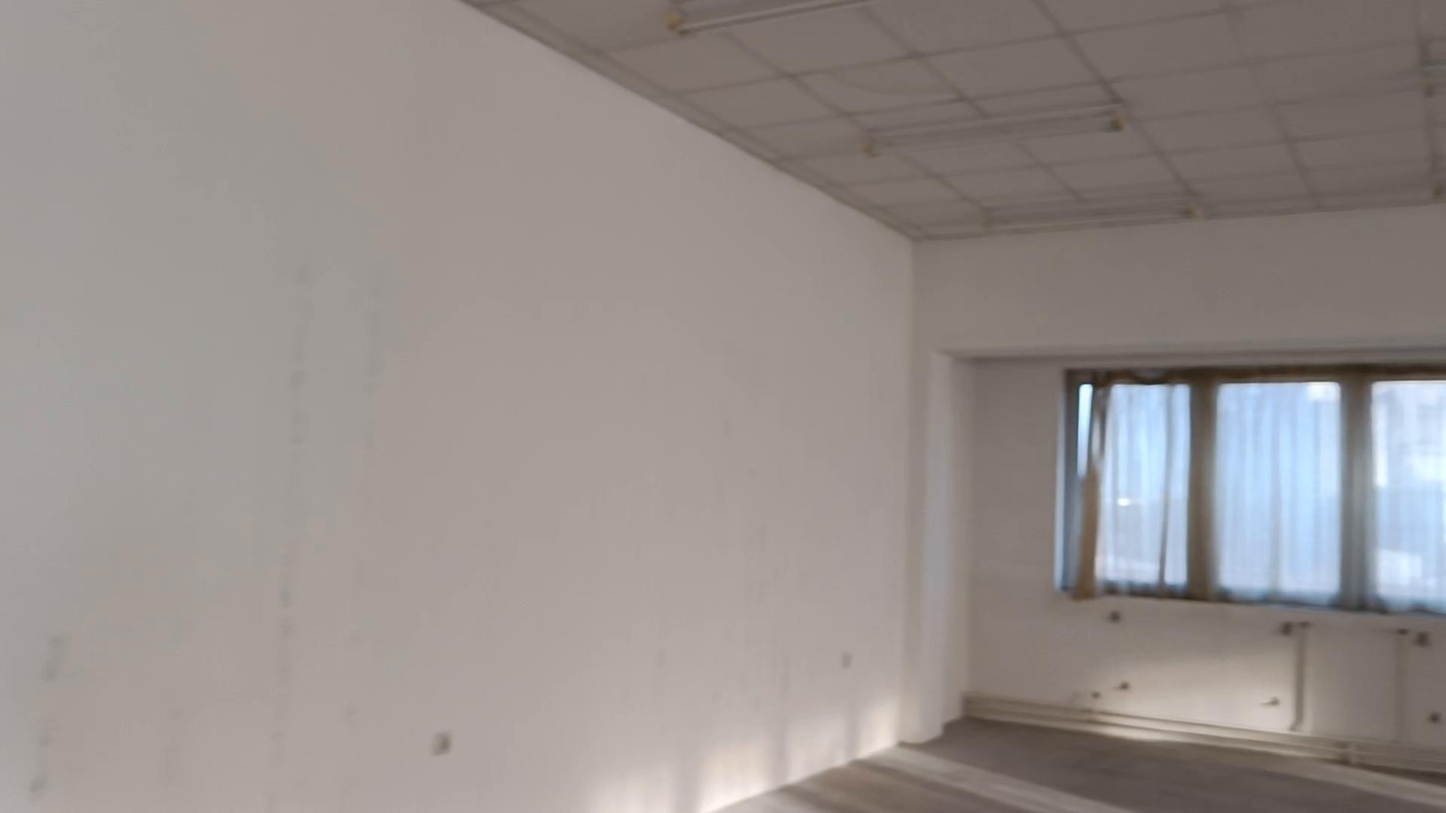ceiling: (467, 0, 1445, 238)
floor: (721, 717, 1445, 812)
wall: (0, 0, 1445, 812), (0, 2, 910, 812), (943, 359, 1443, 745)
